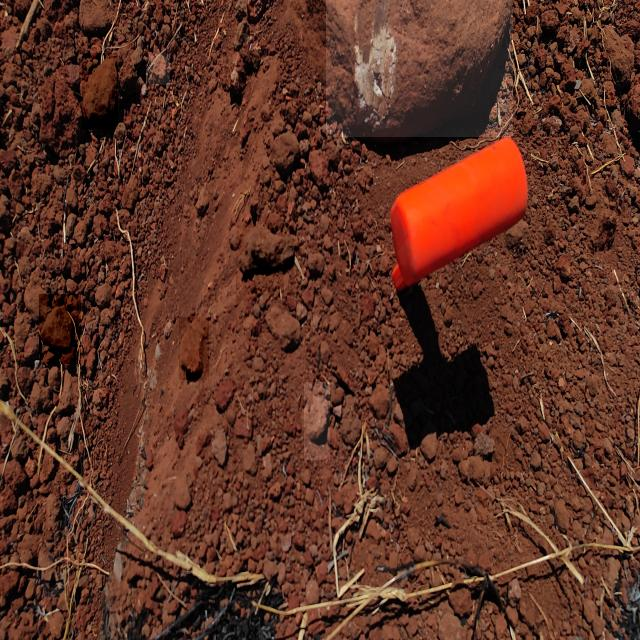Orange_hammer: (390, 134, 528, 294)
rock: (326, 0, 513, 137), (236, 220, 294, 301), (40, 294, 82, 364), (82, 53, 118, 129), (304, 382, 330, 460), (180, 317, 210, 380), (149, 54, 170, 85)
